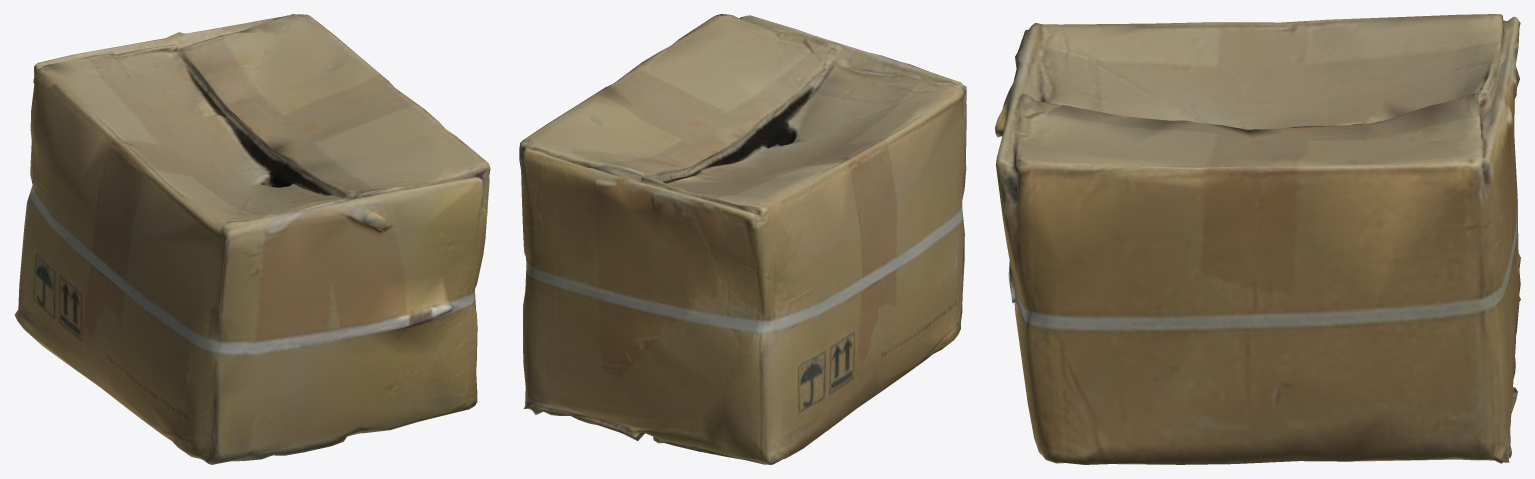
The model's file is cardboard_box_01.glb.
3 renders of one model, left to right at view 1: azimuth 30°, elevation 25°; view 2: azimuth 150°, elevation 25°; view 3: azimuth 270°, elevation 25°, orthographic. The views are drawn at different scales.
Visible parts, largest first — view 1: cardboard_box_01; view 2: cardboard_box_01; view 3: cardboard_box_01.
Part boxes in pixels (box(x1,y1,x2,y2)): cardboard_box_01: box(14, 14, 490, 464); cardboard_box_01: box(519, 14, 966, 464); cardboard_box_01: box(995, 14, 1520, 464).
Bounding box in the file's own units: 0.3868 × 0.3418 × 0.5159.
Materials: 1 (1 with a texture image).
